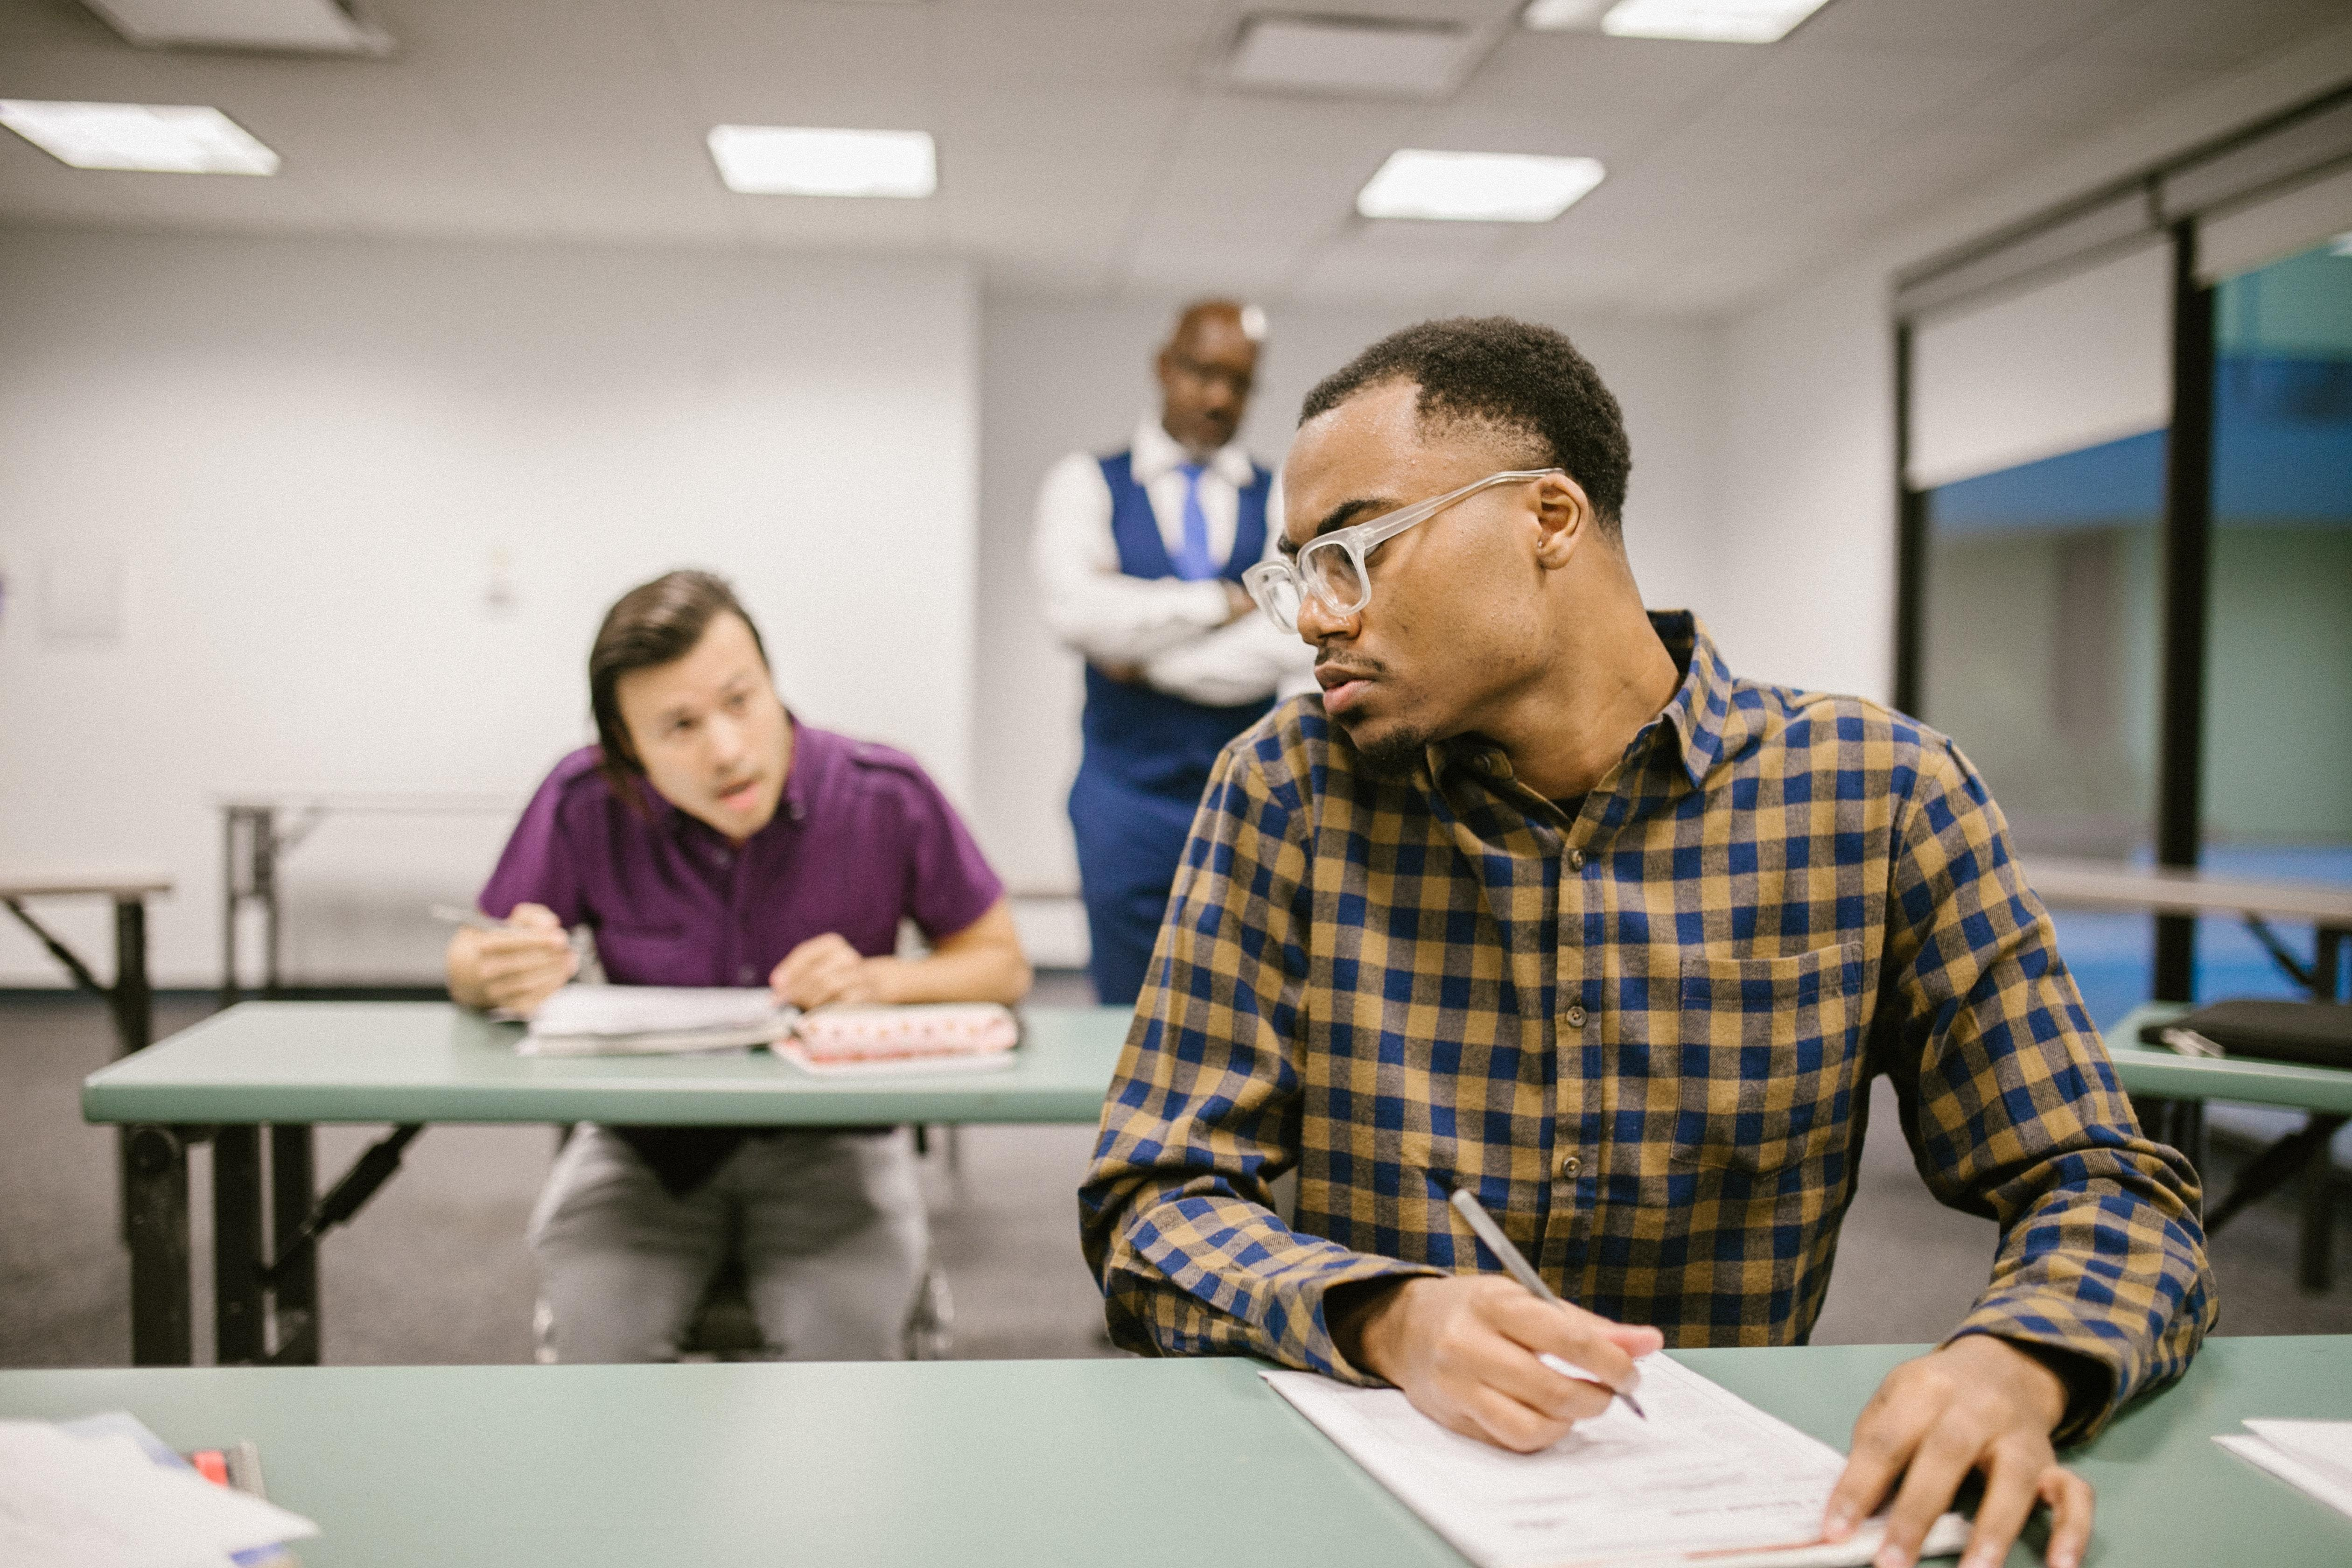cheating: (1041, 206, 2240, 1568), (388, 514, 1102, 1157)
